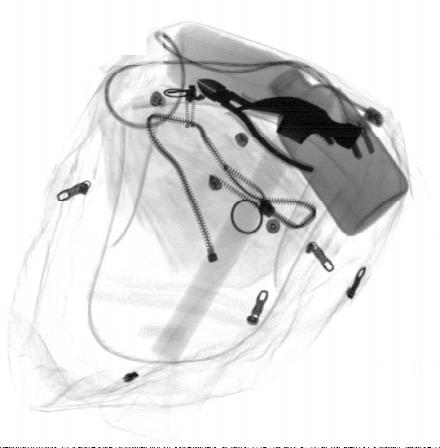Hammer: (150, 97, 362, 367)
Pliers: (199, 78, 335, 172)
